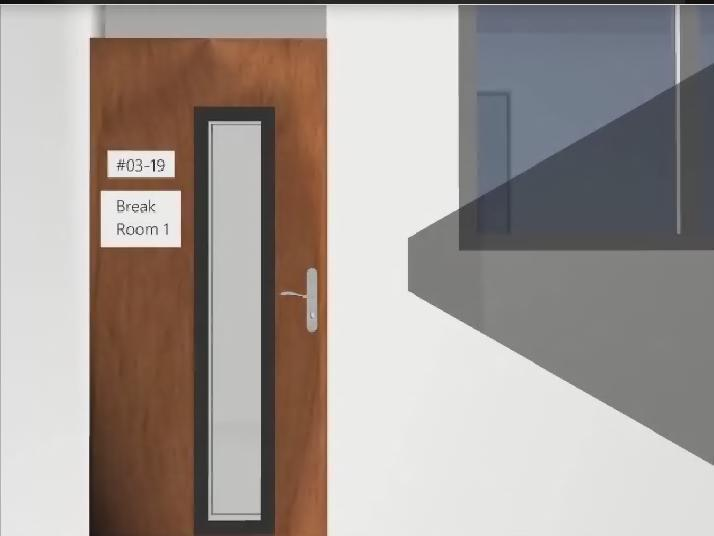door: (90, 38, 327, 536)
